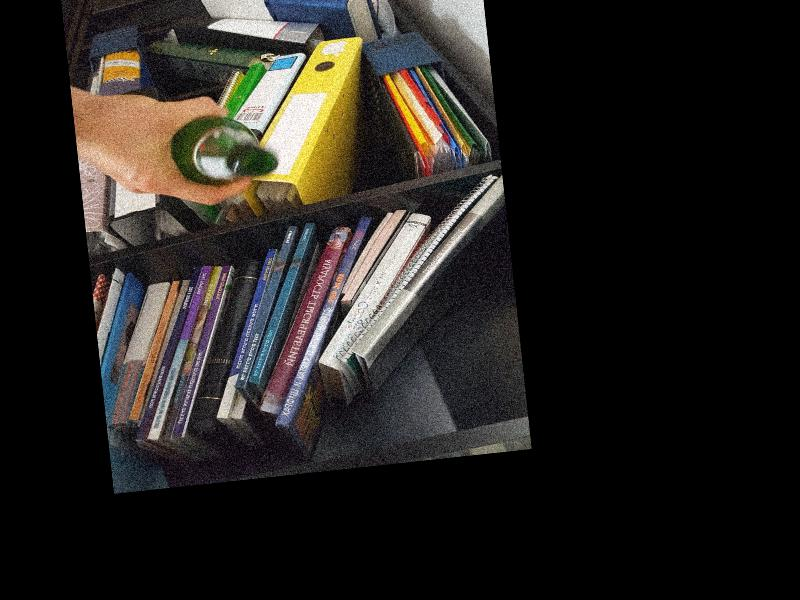Beer: (167, 109, 278, 189)
